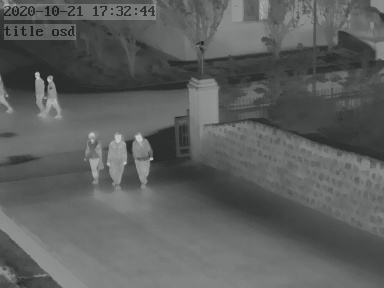person: (130, 131, 155, 189), (106, 130, 126, 191), (43, 72, 63, 118), (87, 129, 103, 182), (31, 69, 45, 117)
